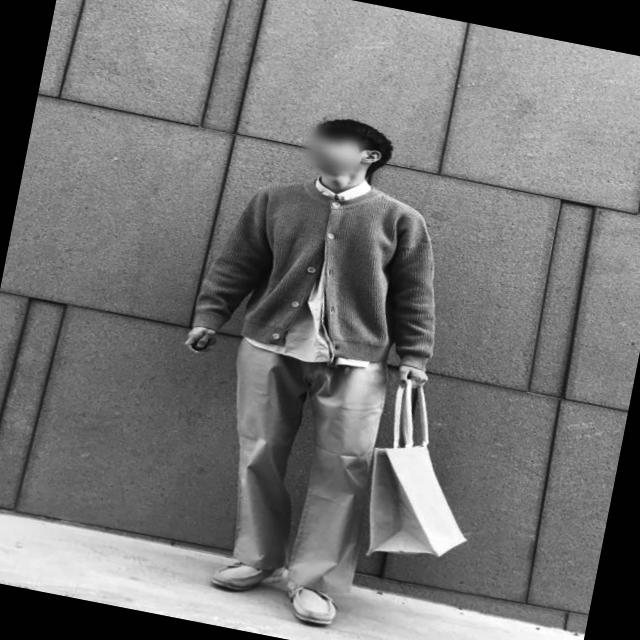cardigan: (188, 151, 459, 374)
cottonpants: (202, 330, 398, 596)
